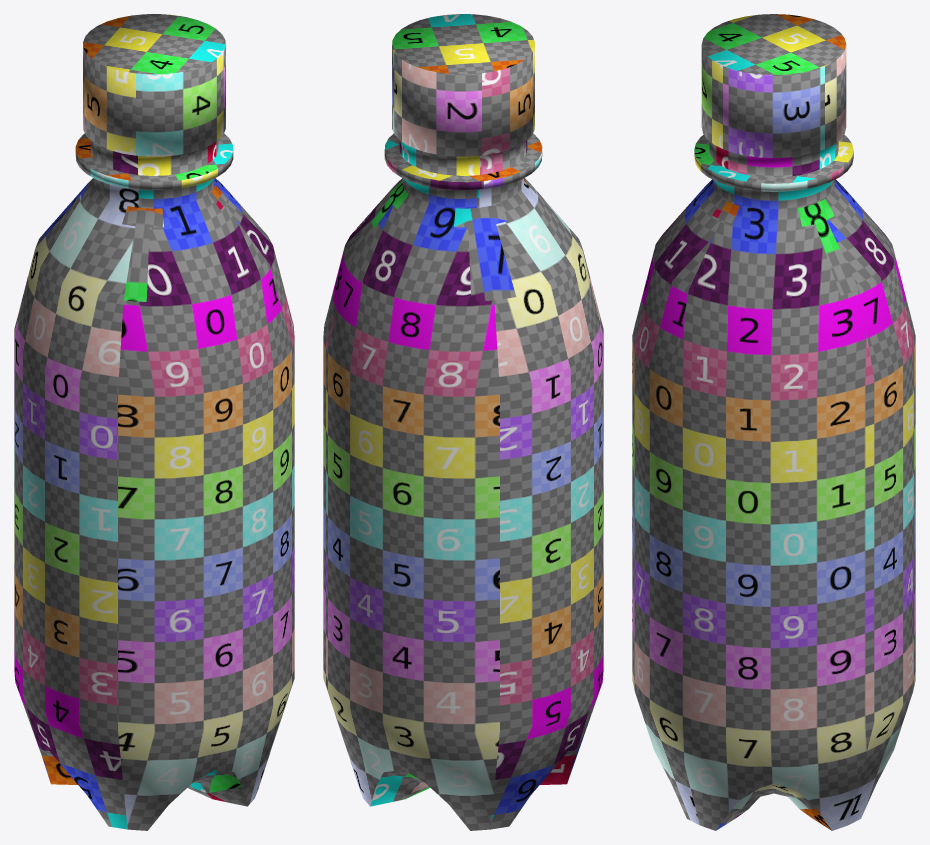
File: bottle2.fbx
The picture shows the model from 3 angles, left to right: view 1: azimuth 30°, elevation 25°; view 2: azimuth 150°, elevation 25°; view 3: azimuth 270°, elevation 25°; orthographic projection.
Visible parts, largest first — view 1: Small bottle; view 2: Small bottle; view 3: Small bottle.
Part boxes in pixels (bbox=[...]): Small bottle: bbox=[14, 14, 294, 830]; Small bottle: bbox=[323, 14, 603, 830]; Small bottle: bbox=[632, 14, 915, 830].
Bounding box in the file's own units: 132 × 385 × 132.
1 material, 1 textured.
